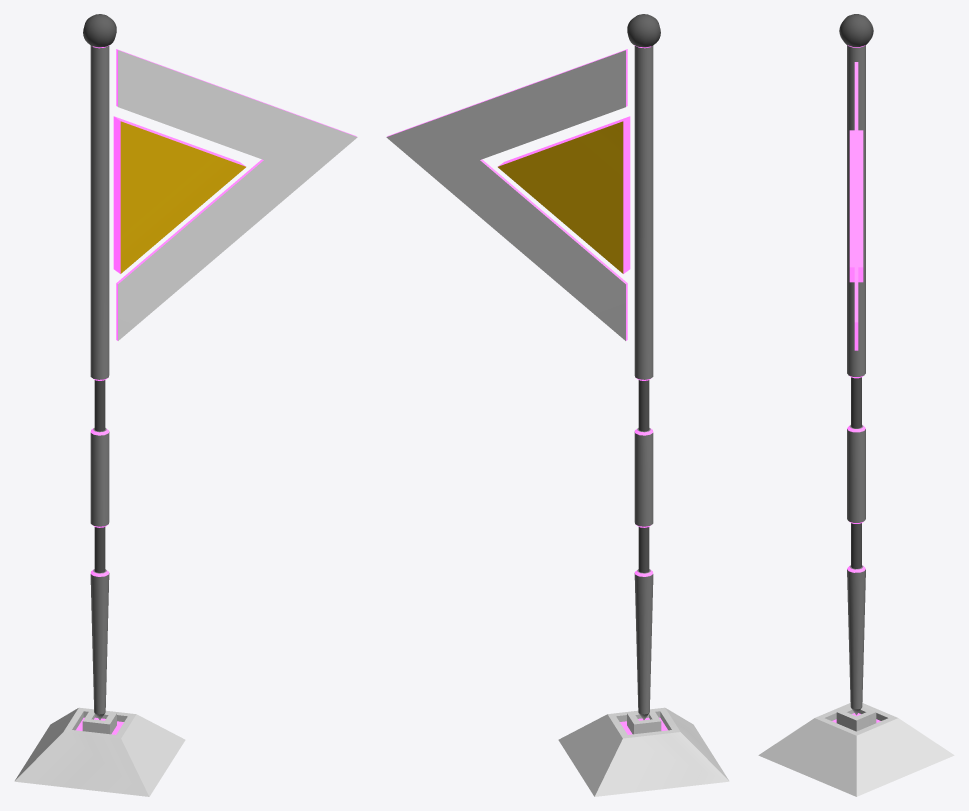
Rendered from scifiPickUpFlag.glb.
3 renders of one model, left to right at view 1: azimuth 30°, elevation 25°; view 2: azimuth 150°, elevation 25°; view 3: azimuth 270°, elevation 25°, orthographic.
Visible parts, largest first — view 1: Cube.001; view 2: Cube.001; view 3: Cube.001.
Boxes of the visible parts, <box> form: Cube.001: <box>14,14,357,796</box>; Cube.001: <box>386,14,729,796</box>; Cube.001: <box>758,14,954,796</box>.
Bounding box in the file's own units: 1.16 × 2.4 × 0.5791.
2 materials, 1 textured.
